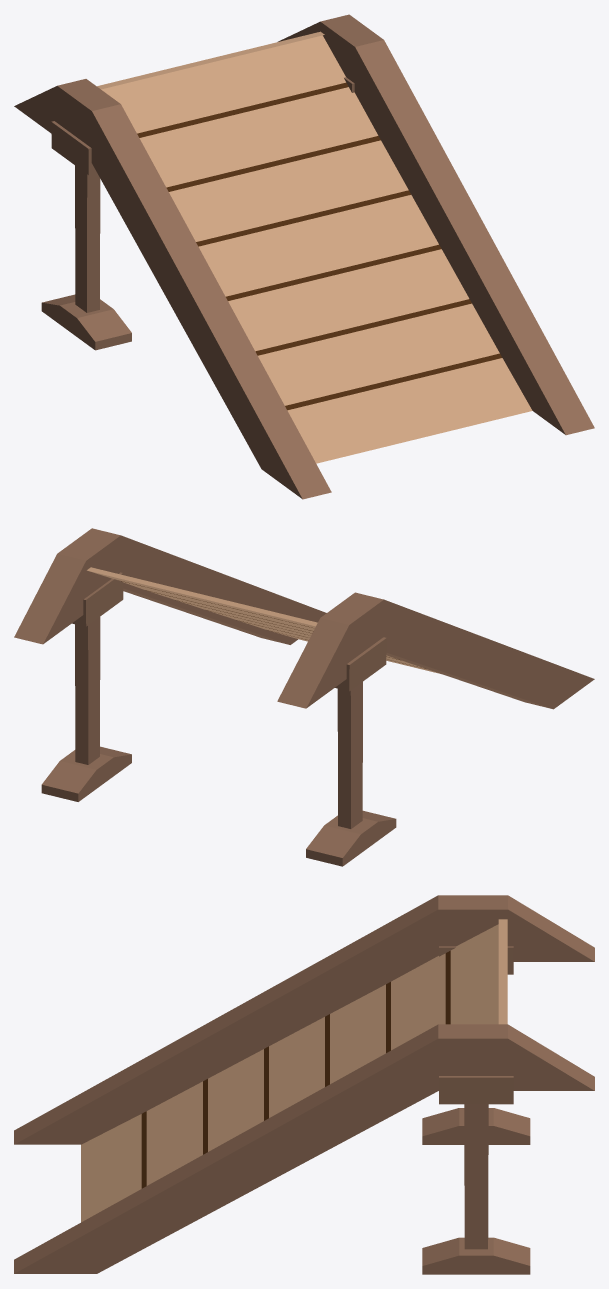
The model's file is quaternius-ultimate-space-ramp-transformed.glb.
The picture shows the model from 3 angles, top to bottom: view 1: azimuth 30°, elevation 25°; view 2: azimuth 150°, elevation 25°; view 3: azimuth 270°, elevation 25°; orthographic projection.
Parts seen in each view (by area): view 1: Ramp; view 2: Ramp; view 3: Ramp.
Boxes of the visible parts, x1,y1,x2,y2 form: Ramp: (14, 14, 594, 499); Ramp: (14, 528, 594, 866); Ramp: (14, 895, 594, 1274).
Bounding box in the file's own units: 1.87 × 1.39 × 3.11.
1 material, 1 textured.
